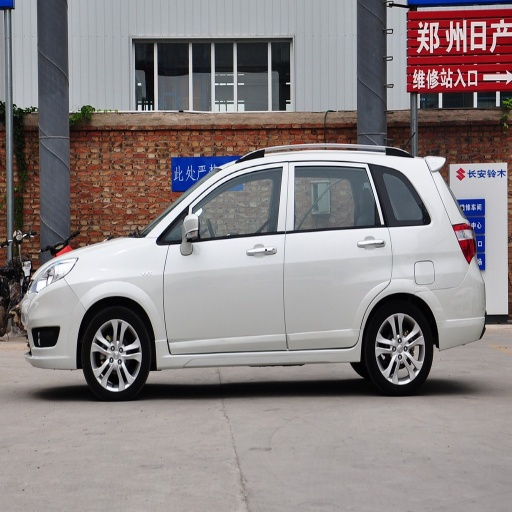back_left_door: (283, 160, 390, 347)
front_left_door: (167, 161, 289, 353)
